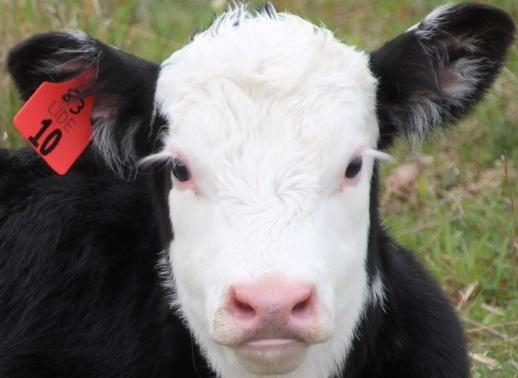muzzles: (195, 268, 339, 376)
